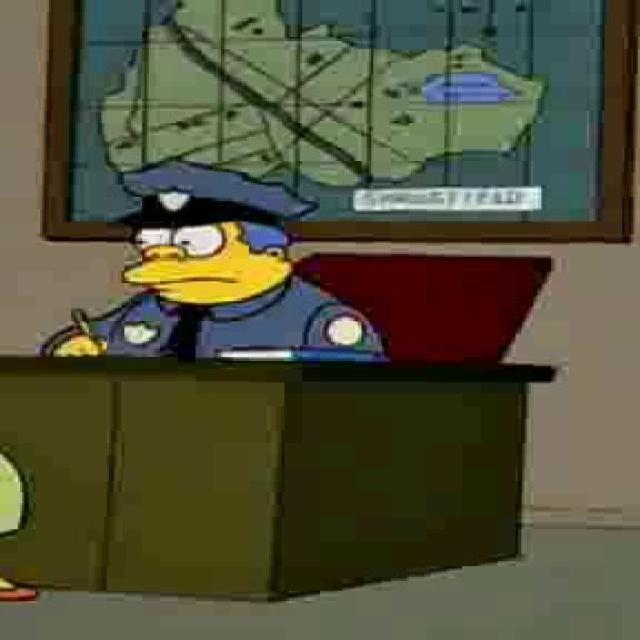Chief Wiggam: (106, 157, 324, 305)
